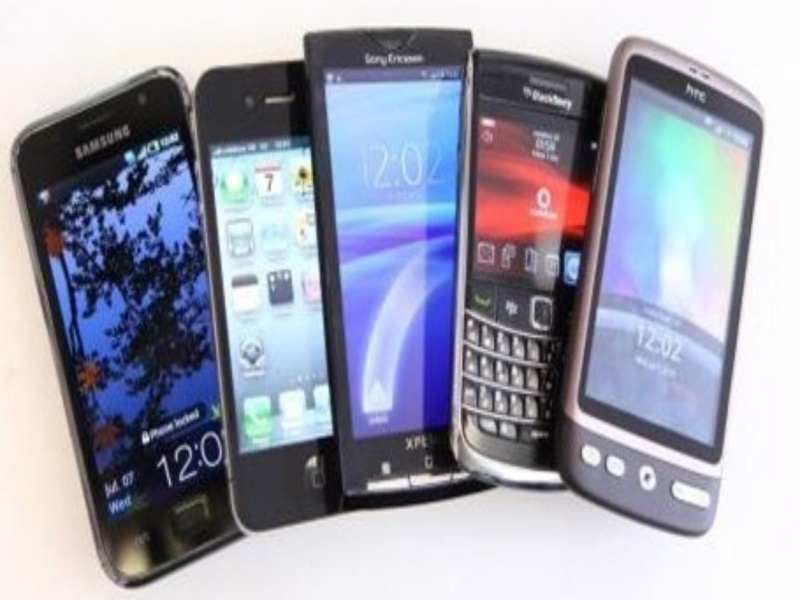mobile: (554, 13, 768, 558), (296, 21, 498, 516)
